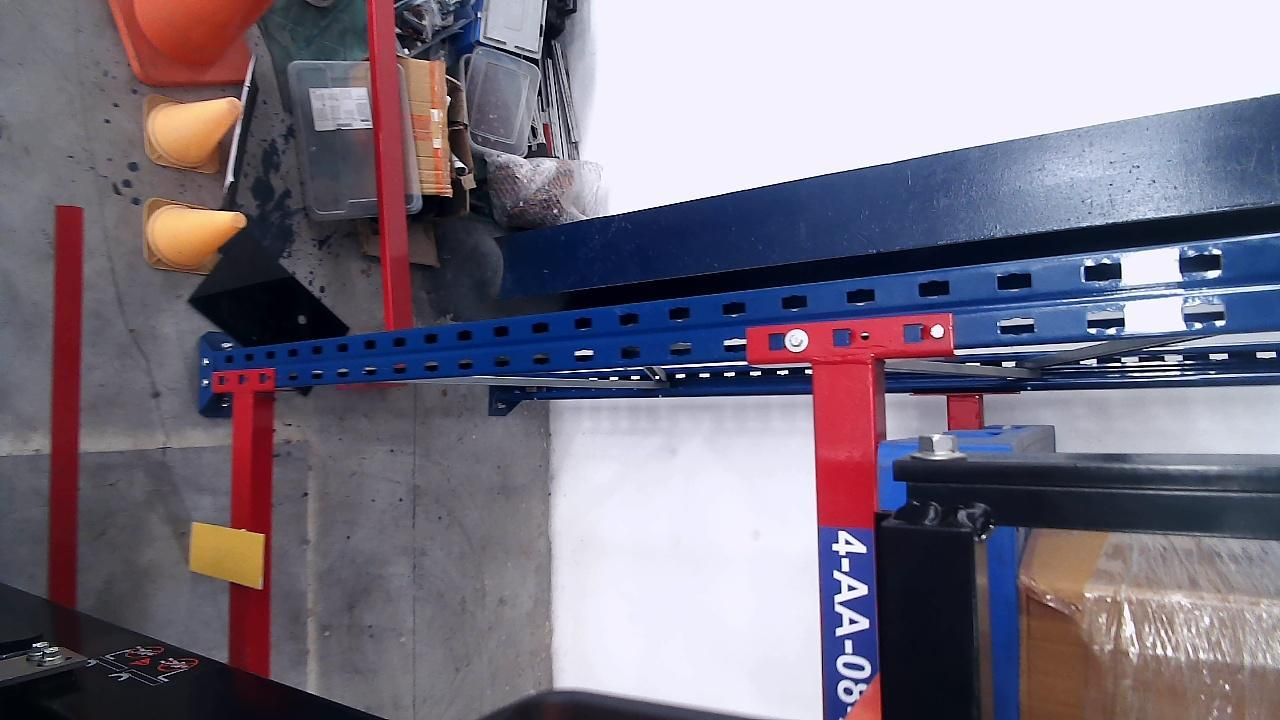h_rack: (812, 357, 880, 720), (228, 391, 260, 674)
orange_strip: (189, 523, 263, 591)
red_line: (48, 204, 80, 607)
